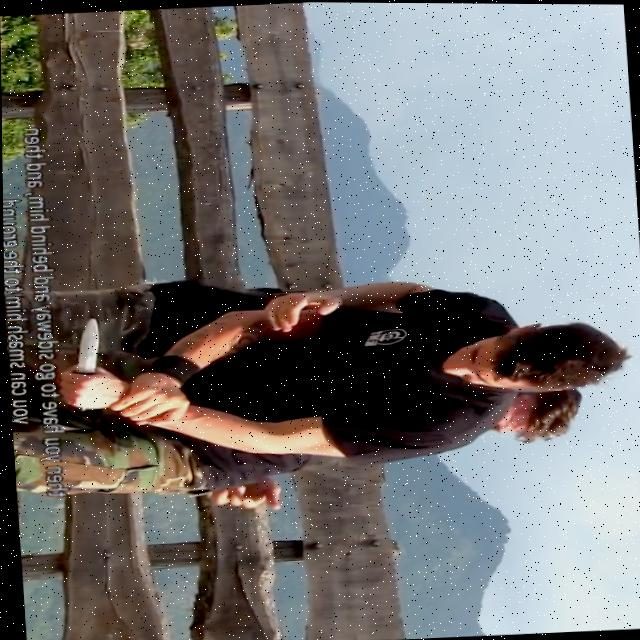knife: (66, 317, 102, 374)
